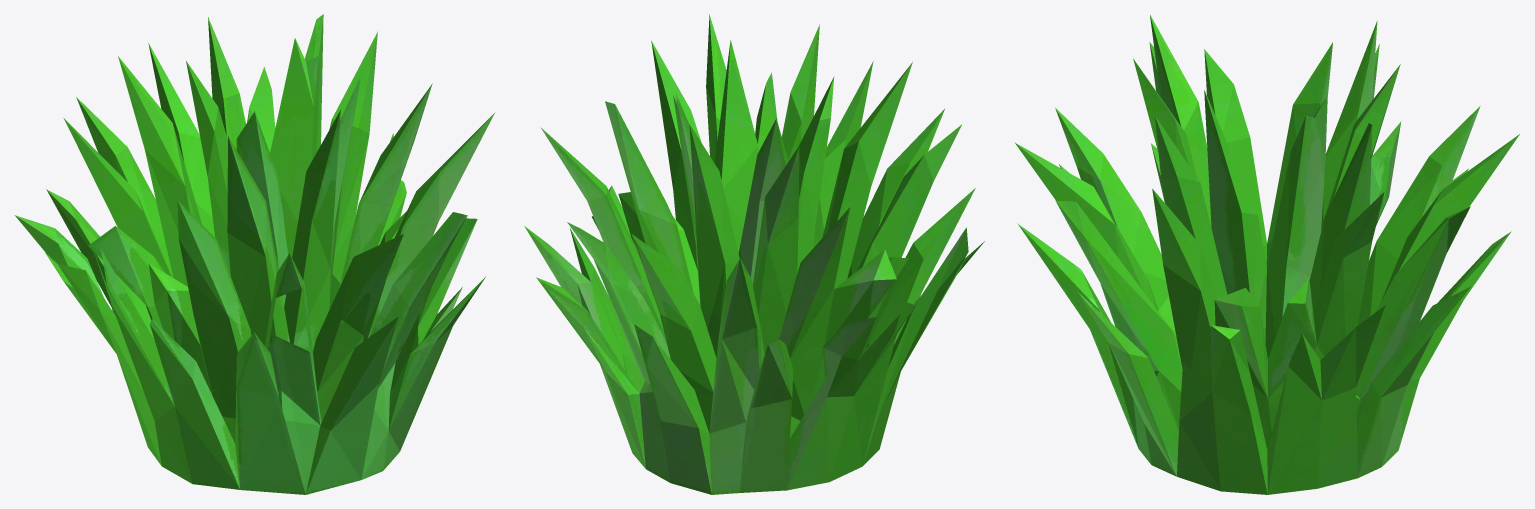
The model's file is grass_tuft_1.glb.
3 views of the same model, side by side, from view 1: azimuth 30°, elevation 25°; view 2: azimuth 150°, elevation 25°; view 3: azimuth 270°, elevation 25° (orthographic). The views are drawn at different scales.
Bounding box in the file's own units: 1.74 × 1.69 × 2.01.
1 material, 1 textured.
